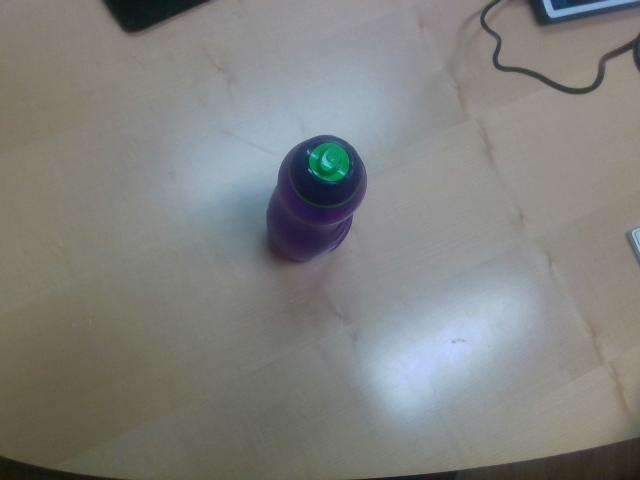bottle: (266, 135, 367, 265)
